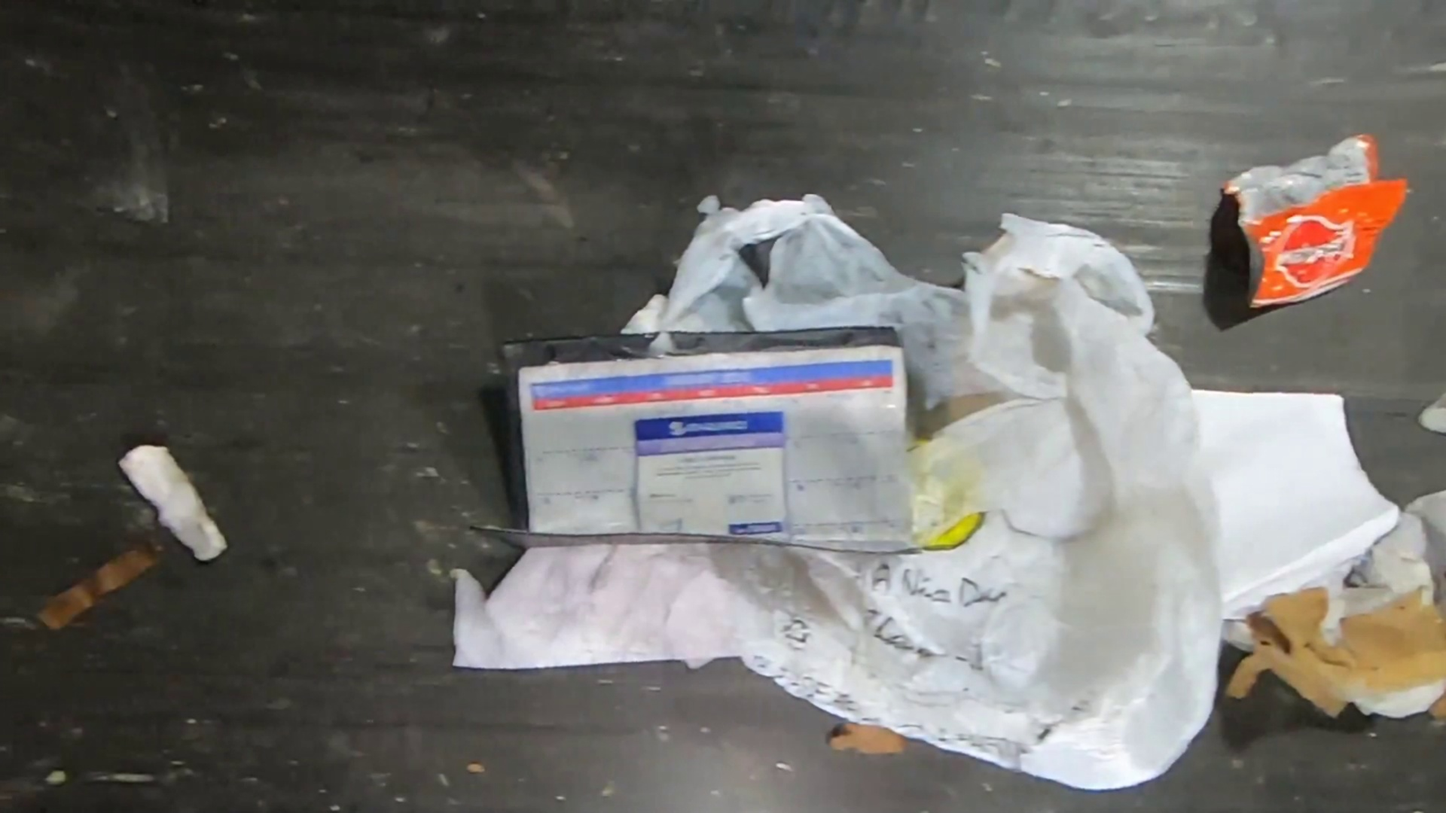cardboard: (1223, 583, 1446, 725)
plastic: (662, 192, 1231, 788), (468, 329, 926, 555), (1221, 132, 1409, 310)
